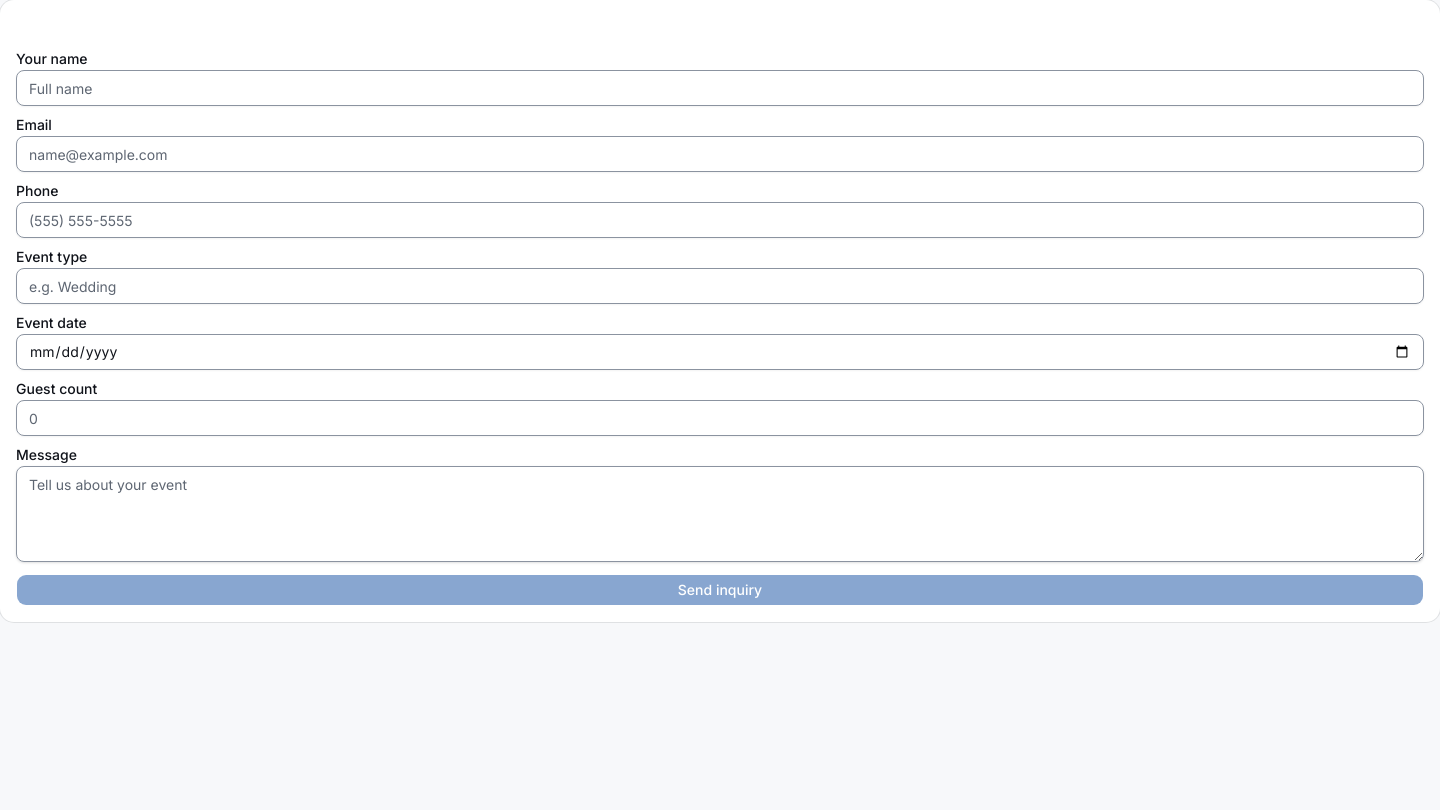
Test: IntakeForm › keeps the submit button disabled until name and email are filled
The image size is (1440, 810).
Check: the button "Send inquiry" is disabled, box [16, 574, 1424, 606]
Type "Ada" into the field labelled "Your name" at (720, 88), box [16, 70, 1424, 106]
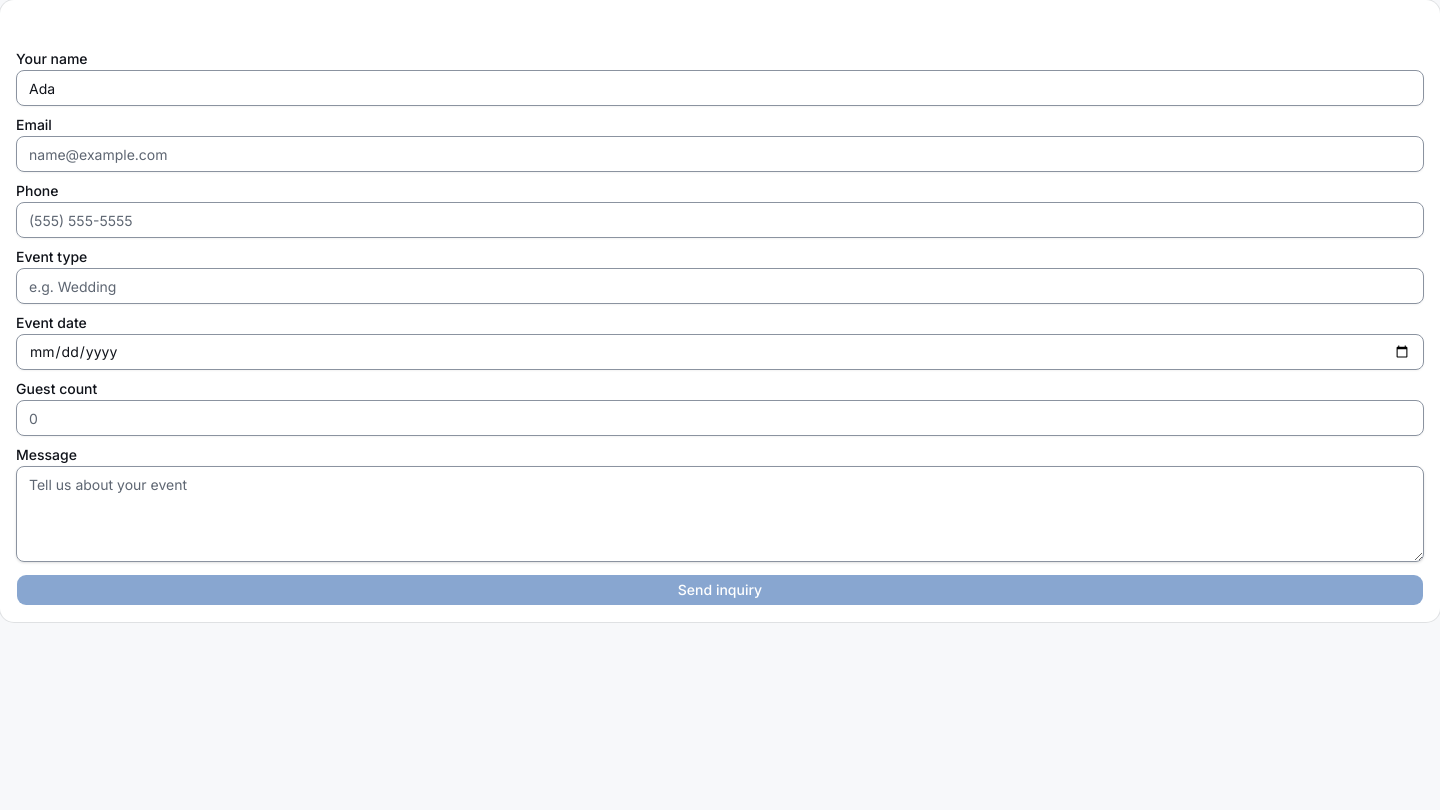
Type "ada@example.com" into the field labelled "Email" at (720, 154), box [16, 136, 1424, 172]
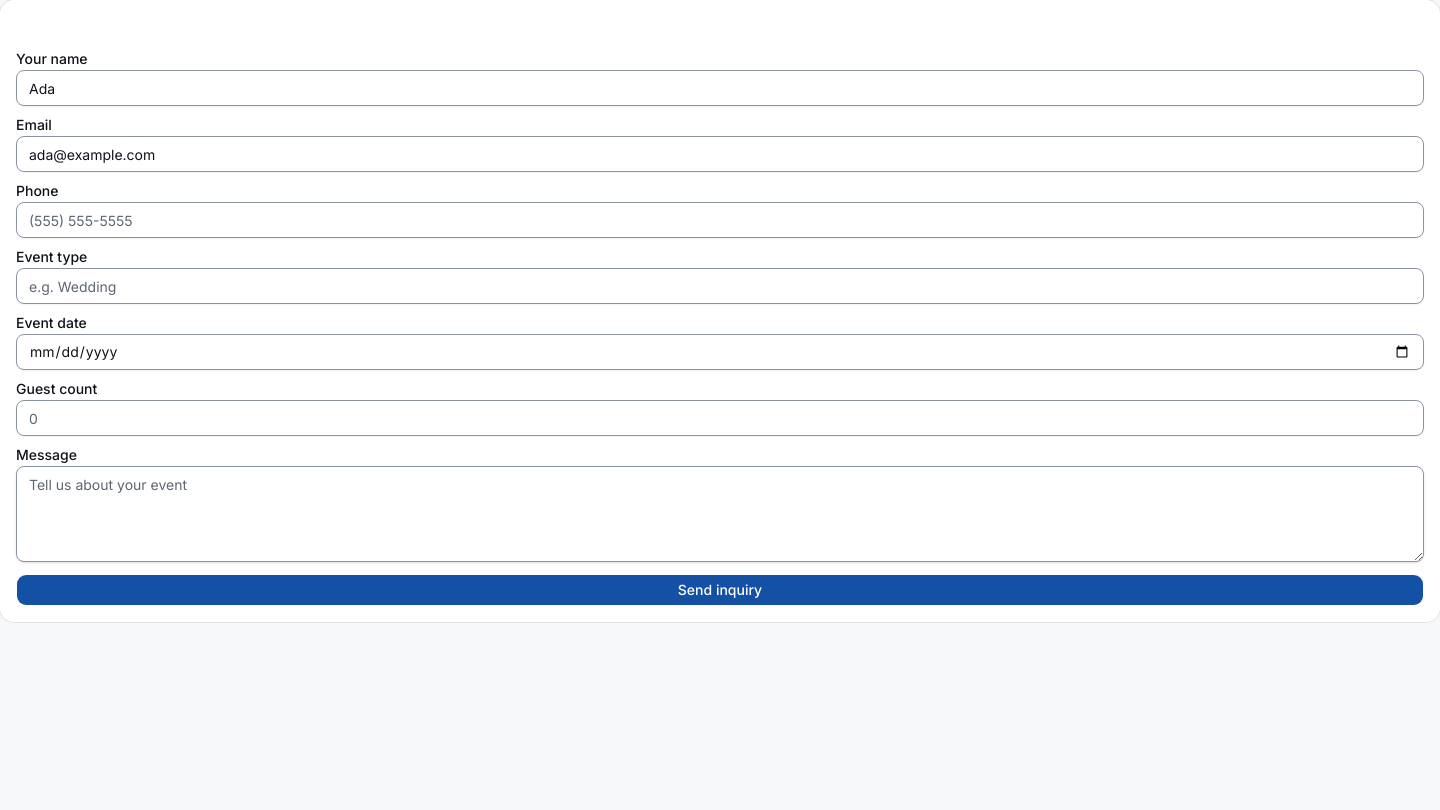
Check: the button "Send inquiry" is enabled, box [16, 574, 1424, 606]
